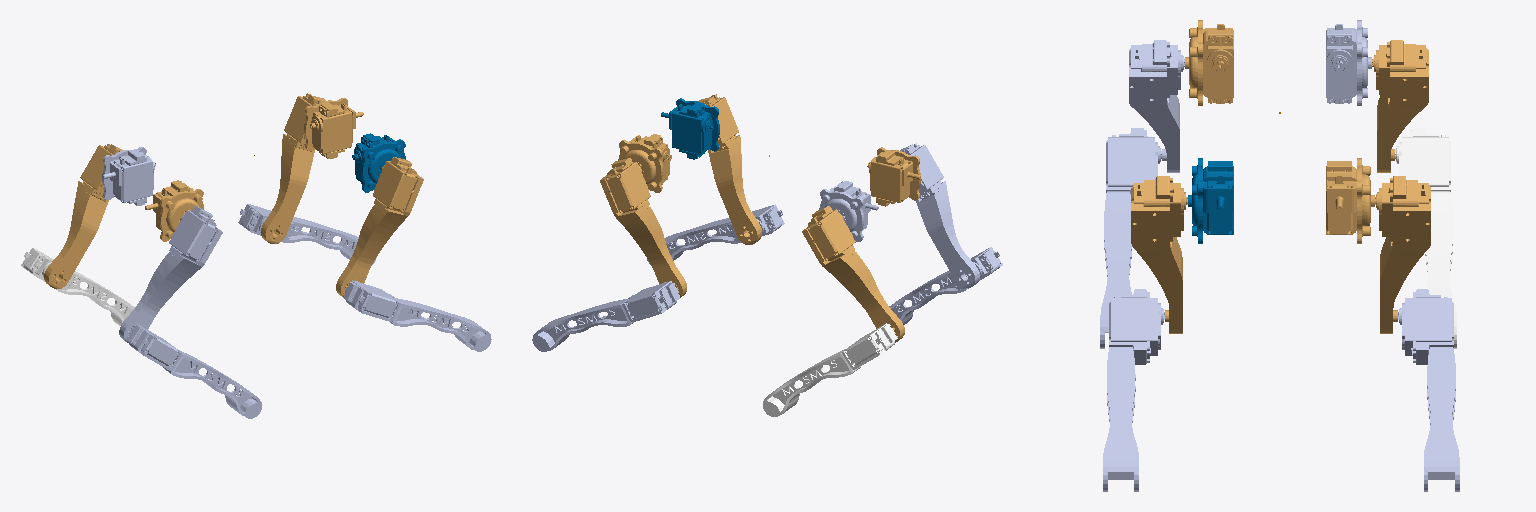
The robot description file, URDF, robot "robodog":
<?xml version="1.0" encoding="utf-8"?>
<!-- This URDF was automatically created by SolidWorks to URDF Exporter! Originally created by [author] ([email redacted]) 
     Commit Version: 1.6.0-4-g7f85cfe -->
<robot
  name="robodog">
 <!-- Base footprint link for ground reference -->
  <link name="base_footprint">
    <visual>
      <origin xyz="0 0 0" rpy="0 0 0"/>
      <geometry>
        <box size="0.001 0.001 0.001"/>
      </geometry>
    </visual>
  </link>

  <joint name="base_joint" type="fixed">
    <parent link="base_footprint"/>
    <child link="base_link"/>
    <origin xyz="0.0 0.0 0.010" rpy="0 0 0"/>
  </joint>

  <link
    name="base_link">
    <inertial>
      <origin
        xyz="0.0062956 -0.0050075 -0.030948"
        rpy="0 0 0" />
      <mass
        value="1.0028" />
      <inertia
        ixx="0.0012288"
        ixy="1.4032E-07"
        ixz="-9.376E-06"
        iyy="0.0019602"
        iyz="-1.3304E-06"
        izz="0.0025553" />
    </inertial>
    <visual>
      <origin
        xyz="0 0 0"
        rpy="0 0 0" />
      <geometry>
        <mesh
          filename="meshes/base_link.STL" />
      </geometry>
      <material
        name="">
        <color
          rgba="0.90196 0.7098 0.43922 1" />
      </material>
    </visual>
    <collision>
      <origin
        xyz="0 0 0"
        rpy="0 0 0" />
      <geometry>
        <mesh
          filename="meshes/base_link.STL" />
      </geometry>
    </collision>
  </link>
  <link
    name="front_right_joint">
    <inertial>
      <origin
        xyz="-0.0051161 0.0097183 -0.025267"
        rpy="0 0 0" />
      <mass
        value="0.05551" />
      <inertia
        ixx="1.7744E-05"
        ixy="1.1058E-08"
        ixz="2.21E-08"
        iyy="9.1883E-06"
        iyz="-2.3246E-07"
        izz="1.1629E-05" />
    </inertial>
    <visual>
      <origin
        xyz="0 0 0"
        rpy="0 0 0" />
      <geometry>
        <mesh
          filename="package://robodogv1/meshes/front_right_joint.STL" />
      </geometry>
      <material
        name="">
        <color
          rgba="0.039216 0.4902 0.7098 1" />
      </material>
    </visual>
    <collision>
      <origin
        xyz="0 0 0"
        rpy="0 0 0" />
      <geometry>
        <mesh
          filename="meshes/front_right_joint.STL" />
      </geometry>
    </collision>
  </link>
  <joint
    name="frontRightJoint"
    type="continuous">
    <origin
      xyz="0.095349 -0.044498 -0.016137"
      rpy="-1.5708 0 1.5708" />
    <parent
      link="base_link" />
    <child
      link="front_right_joint" />
    <axis
      xyz="0 0 -1" />
    <limit
      lower="-1.57"
      upper="1.57"
      effort="1.03"
      velocity="5.2" />
    <dynamics
      damping="0.05"
      friction="0.01" />
  </joint>
  <link
    name="front_right_hip">
    <inertial>
      <origin
        xyz="-0.013949 0.03834 -0.021448"
        rpy="0 0 0" />
      <mass
        value="0.083392" />
      <inertia
        ixx="5.3784E-05"
        ixy="2.2181E-05"
        ixz="4.5693E-06"
        iyy="2.3483E-05"
        iyz="-8.4641E-06"
        izz="6.1092E-05" />
    </inertial>
    <visual>
      <origin
        xyz="0 0 0"
        rpy="0 0 0" />
      <geometry>
        <mesh
          filename="meshes/front_right_hip.STL" />
      </geometry>
      <material
        name="">
        <color
          rgba="0.90196 0.7098 0.43922 1" />
      </material>
    </visual>
    <collision>
      <origin
        xyz="0 0 0"
        rpy="0 0 0" />
      <geometry>
        <mesh
          filename="meshes/front_right_hip.STL" />
      </geometry>
    </collision>
  </link>  
  <joint
    name="frontRightHip"
    type="revolute">
    <origin
      xyz="-0.022725 0.010225 -0.026"
      rpy="0 1.5708 0" />
    <parent
      link="front_right_joint" />
    <child
      link="front_right_hip" />
    <axis
      xyz="0 0 -1" />
    <limit
      lower="-1.57"
      upper="1.57"
      effort="100.0"
      velocity="5.2" />
    <dynamics
      damping="0.1"
      friction="0.1" />
  </joint>
  <link
    name="front_right_leg">
    <inertial>
      <origin
        xyz="0.036209 0.019904 -0.028129"
        rpy="0 0 0" />
      <mass
        value="0.06245" />
      <inertia
        ixx="1.6768E-05"
        ixy="-1.6025E-05"
        ixz="1.6028E-07"
        iyy="3.8508E-05"
        iyz="2.1508E-07"
        izz="4.4373E-05" />
    </inertial>
    <visual>
      <origin
        xyz="0 0 0"
        rpy="0 0 0" />      <geometry>
        <mesh
          filename="meshes/front_right_leg.STL" />
      </geometry>
      <material
        name="">
        <color
          rgba="0.79216 0.81961 0.93333 1" />
      </material>
    </visual>
    <collision>
      <origin
        xyz="0 0 0"
        rpy="0 0 0" />
      <geometry>
        <mesh
          filename="meshes/front_right_leg.STL" />
      </geometry>
    </collision>
  </link>
  <joint
    name="frontRightLeg"
    type="continuous">
    <origin
      xyz="-0.052167 0.11946 -0.017082"
      rpy="0 0 0" />
    <parent
      link="front_right_hip" />
    <child
      link="front_right_leg" />
    <axis
      xyz="0 0 -1" />
    <limit
      lower="-1.57"
      upper="1.57"
      effort="1.03"
      velocity="5.2" />
    <dynamics
      damping="0.05"
      friction="0.01" />
  </joint>
  <link
    name="front_left_joint">
    <inertial>
      <origin
        xyz="0.0059337 0.0097421 -0.025308"
        rpy="0 0 0" />
      <mass
        value="0.058404" />
      <inertia
        ixx="1.848E-05"
        ixy="-1.1284E-08"
        ixz="-2.0657E-08"
        iyy="9.618E-06"
        iyz="-2.3308E-07"
        izz="1.2065E-05" />
    </inertial>
    <visual>
      <origin
        xyz="0 0 0"
        rpy="0 0 0" />
      <geometry>
        <mesh
          filename="meshes/front_left_joint.STL" />
      </geometry>
      <material
        name="">
        <color
          rgba="0.90196 0.7098 0.43922 1" />
      </material>
    </visual>
    <collision>
      <origin
        xyz="0 0 0"
        rpy="0 0 0" />
      <geometry>
        <mesh
          filename="meshes/front_left_joint.STL" />
      </geometry>
    </collision>
  </link>
  <joint
    name="frontLeftJoint"
    type="continuous">
    <origin
      xyz="0.095349 0.044502 -0.016137"
      rpy="-1.5708 0 1.5708" />
    <parent
      link="base_link" />
    <child
      link="front_left_joint" />
    <axis
      xyz="0 0 -1" />
    <limit
      lower="-1.57"
      upper="1.57"
      effort="1.03"
      velocity="5.2" />
    <dynamics
      damping="0.05"
      friction="0.01" />
  </joint>
  <link
    name="front_left_hip">
    <inertial>
      <origin
        xyz="-0.013938 0.038316 0.021449"
        rpy="0 0 0" />
      <mass
        value="0.083465" />
      <inertia
        ixx="5.3818E-05"
        ixy="2.2193E-05"
        ixz="-4.5714E-06"
        iyy="2.3496E-05"
        iyz="8.4634E-06"
        izz="6.1133E-05" />
    </inertial>
    <visual>
      <origin
        xyz="0 0 0"
        rpy="0 0 0" />
      <geometry>
        <mesh
          filename="meshes/front_left_hip.STL" />
      </geometry>
      <material
        name="">
        <color
          rgba="0.90196 0.7098 0.43922 1" />
      </material>
    </visual>
    <collision>
      <origin
        xyz="0 0 0"
        rpy="0 0 0" />
      <geometry>
        <mesh
          filename="meshes/front_left_hip.STL" />
      </geometry>
    </collision>
  </link>
  <joint
    name="frontLeftHip"
    type="continuous">
    <origin
      xyz="0.024725 0.010225 -0.026"
      rpy="0 1.5708 0" />
    <parent
      link="front_left_joint" />
    <child
      link="front_left_hip" />
    <axis
      xyz="0 0 -1" />
    <limit
      lower="-1.57"
      upper="1.57"
      effort="1.03"
      velocity="5.2" />
    <dynamics
      damping="0.05"
      friction="0.01" />
  </joint>
  <link
    name="front_left_leg">
    <inertial>
      <origin
        xyz="0.036259 0.019928 0.028131"
        rpy="0 0 0" />
      <mass
        value="0.062469" />
      <inertia
        ixx="1.6762E-05"
        ixy="-1.602E-05"
        ixz="-1.6027E-07"
        iyy="3.8513E-05"
        iyz="-2.1508E-07"
        izz="4.4372E-05" />
    </inertial>
    <visual>
      <origin
        xyz="0 0 0"
        rpy="0 0 0" />
      <geometry>
        <mesh
          filename="meshes/front_left_leg.STL" />
      </geometry>
      <material
        name="">
        <color
          rgba="0.79216 0.81961 0.93333 1" />
      </material>
    </visual>
    <collision>
      <origin
        xyz="0 0 0"
        rpy="0 0 0" />
      <geometry>
        <mesh
          filename="meshes/front_left_leg.STL" />
      </geometry>
    </collision>
  </link>
  <joint
    name="frontLeftLeg"
    type="continuous">
    <origin
      xyz="-0.052167 0.11946 0.017082"
      rpy="0 0 0" />
    <parent
      link="front_left_hip" />
    <child
      link="front_left_leg" />
    <axis
      xyz="0 0 -1" />
    <limit
      lower="-1.57"
      upper="1.57"
      effort="1.03"
      velocity="5.2" />
    <dynamics
      damping="0.05"
      friction="0.01" />
  </joint>
  <link
    name="rear_right_joint">
    <inertial>
      <origin
        xyz="-0.025308 0.0097421 -0.0059337"
        rpy="0 0 0" />
      <mass
        value="0.058404" />
      <inertia
        ixx="1.2065E-05"
        ixy="-2.3308E-07"
        ixz="2.0657E-08"
        iyy="9.618E-06"
        iyz="1.1284E-08"
        izz="1.848E-05" />
    </inertial>
    <visual>
      <origin
        xyz="0 0 0"
        rpy="0 0 0" />
      <geometry>
        <mesh
          filename="meshes/rear_right_joint.STL" />
      </geometry>
      <material
        name="">
        <color
          rgba="0.90196 0.7098 0.43922 1" />
      </material>
    </visual>
    <collision>
      <origin
        xyz="0 0 0"
        rpy="0 0 0" />
      <geometry>
        <mesh
          filename="meshes/rear_right_joint.STL" />
      </geometry>
    </collision>
  </link>
  <joint
    name="rearRightJoint"
    type="continuous">
    <origin
      xyz="-0.096651 -0.044498 -0.016137"
      rpy="-1.5708 0 0" />
    <parent
      link="base_link" />
    <child
      link="rear_right_joint" />
    <axis
      xyz="1 0 0" />
    <limit
      lower="-1.57"
      upper="1.57"
      effort="1.03"
      velocity="5.2" />
    <dynamics
      damping="0.05"
      friction="0.01" />
  </joint>
  <link
    name="rear_right_hip">
    <inertial>
      <origin
        xyz="-0.020156 0.035472 -0.021448"
        rpy="0 0 0" />
      <mass
        value="0.083392" />
      <inertia
        ixx="4.5634E-05"
        ixy="2.5933E-05"
        ixz="5.9187E-06"
        iyy="3.1634E-05"
        iyz="-7.5821E-06"
        izz="6.1092E-05" />
    </inertial>
    <visual>
      <origin
        xyz="0 0 0"
        rpy="0 0 0" />
      <geometry>
        <mesh
          filename="meshes/rear_right_hip.STL" />
      </geometry>
      <material
        name="">
        <color
          rgba="0.79216 0.81961 0.93333 1" />
      </material>
    </visual>
    <collision>
      <origin
        xyz="0 0 0"
        rpy="0 0 0" />
      <geometry>
        <mesh
          filename="meshes/rear_right_hip.STL" />
      </geometry>
    </collision>
  </link>
  <joint
    name="rearRightHip"
    type="continuous">
    <origin
      xyz="-0.026 0.010225 -0.024725"
      rpy="0 0 0" />
    <parent
      link="rear_right_joint" />
    <child
      link="rear_right_hip" />
    <axis
      xyz="0 0 -1" />
    <limit
      lower="-1.57"
      upper="1.57"
      effort="1.03"
      velocity="5.2" />
    <dynamics
      damping="0.05"
      friction="0.01" />
  </joint>
  <link
    name="rear_right_leg">
    <inertial>
      <origin
        xyz="0.032013 0.026123 -0.028129"
        rpy="0 0 0" />
      <mass
        value="0.06245" />
      <inertia
        ixx="2.3179E-05"
        ixy="-1.8843E-05"
        ixz="1.1874E-07"
        iyy="3.2097E-05"
        iyz="2.4051E-07"
        izz="4.4373E-05" />
    </inertial>
    <visual>
      <origin
        xyz="0 0 0"
        rpy="0 0 0" />
      <geometry>
        <mesh
          filename="meshes/rear_right_leg.STL" />
      </geometry>
      <material
        name="">
        <color
          rgba="0.79216 0.81961 0.93333 1" />
      </material>
    </visual>
    <collision>
      <origin
        xyz="0 0 0"
        rpy="0 0 0" />
      <geometry>
        <mesh
          filename="meshes/rear_right_leg.STL" />
      </geometry>
    </collision>
  </link>
  <joint
    name="rearRightLeg"
    type="continuous">
    <origin
      xyz="-0.071386 0.10907 -0.017082"
      rpy="0 0 0" />
    <parent
      link="rear_right_hip" />
    <child
      link="rear_right_leg" />
    <axis
      xyz="0 0 -1" />
    <limit
      lower="-1.57"
      upper="1.57"
      effort="1.03"
      velocity="5.2" />
    <dynamics
      damping="0.05"
      friction="0.01" />
  </joint>
  <link
    name="rear_left_joint">
    <inertial>
      <origin
        xyz="-0.025267 0.0097183 0.0051161"
        rpy="0 0 0" />
      <mass
        value="0.05551" />
      <inertia
        ixx="1.1629E-05"
        ixy="-2.3246E-07"
        ixz="-2.21E-08"
        iyy="9.1883E-06"
        iyz="-1.1058E-08"
        izz="1.7744E-05" />
    </inertial>
    <visual>
      <origin
        xyz="0 0 0"
        rpy="0 0 0" />
      <geometry>
        <mesh
          filename="meshes/rear_left_joint.STL" />
      </geometry>
      <material
        name="">
        <color
          rgba="0.79216 0.81961 0.93333 1" />
      </material>
    </visual>
    <collision>
      <origin
        xyz="0 0 0"
        rpy="0 0 0" />
      <geometry>
        <mesh
          filename="meshes/rear_left_joint.STL" />
      </geometry>
    </collision>
  </link>
  <joint
    name="rearLeftJoint"
    type="continuous">
    <origin
      xyz="-0.096651 0.044502 -0.016137"
      rpy="-1.5708 0 0" />
    <parent
      link="base_link" />
    <child
      link="rear_left_joint" />
    <axis
      xyz="1 0 0" />
    <limit
      lower="-1.57"
      upper="1.57"
      effort="1.03"
      velocity="5.2" />
    <dynamics
      damping="0.05"
      friction="0.01" />
  </joint>
  <link
    name="rear_left_hip">
    <inertial>
      <origin
        xyz="-0.020142 0.03545 0.021449"
        rpy="0 0 0" />
      <mass
        value="0.083465" />
      <inertia
        ixx="4.5663E-05"
        ixy="2.5948E-05"
        ixz="-5.9207E-06"
        iyy="3.1651E-05"
        iyz="7.5811E-06"
        izz="6.1133E-05" />
    </inertial>
    <visual>
      <origin
        xyz="0 0 0"
        rpy="0 0 0" />
      <geometry>
        <mesh
          filename="meshes/rear_left_hip.STL" />
      </geometry>
      <material
        name="">
        <color
          rgba="0.90196 0.7098 0.43922 1" />
      </material>
    </visual>
    <collision>
      <origin
        xyz="0 0 0"
        rpy="0 0 0" />
      <geometry>
        <mesh
          filename="meshes/rear_left_hip.STL" />
      </geometry>
    </collision>
  </link>
  <joint
    name="rearLeftHip"
    type="continuous">
    <origin
      xyz="-0.026 0.010225 0.022725"
      rpy="0 0 0" />
    <parent
      link="rear_left_joint" />
    <child
      link="rear_left_hip" />
    <axis
      xyz="0 0 -1" />
    <limit
      lower="-1.57"
      upper="1.57"
      effort="1.03"
      velocity="5.2" />
    <dynamics
      damping="0.05"
      friction="0.01" />
  </joint>
  <link
    name="rear_left_leg">
    <inertial>
      <origin
        xyz="0.032058 0.026156 0.028131"
        rpy="0 0 0" />
      <mass
        value="0.062469" />
      <inertia
        ixx="2.3171E-05"
        ixy="-1.884E-05"
        ixz="-1.1874E-07"
        iyy="3.2104E-05"
        iyz="-2.4051E-07"
        izz="4.4372E-05" />
    </inertial>
    <visual>
      <origin
        xyz="0 0 0"
        rpy="0 0 0" />
      <geometry>
        <mesh
          filename="meshes/rear_left_leg.STL" />
      </geometry>
      <material
        name="">
        <color
          rgba="1 1 1 1" />
      </material>
    </visual>
    <collision>
      <origin
        xyz="0 0 0"
        rpy="0 0 0" />
      <geometry>
        <mesh
          filename="meshes/rear_left_leg.STL" />
      </geometry>
    </collision>
  </link>
  <joint
    name="rearLeftLeg"
    type="continuous">
    <origin
      xyz="-0.071386 0.10907 0.017082"
      rpy="0 0 0" />
    <parent
      link="rear_left_hip" />
    <child
      link="rear_left_leg" />
    <axis
      xyz="0 0 -1" />
    <limit
      lower="-1.57"
      upper="1.57"
      effort="1.03"
      velocity="5.2" />
    <dynamics
      damping="0.05"
      friction="0.01" />
  </joint>    
</robot>

--- Facts derived from the render (not from the file) ---
Views: 3 orthographic renders of the robot side by side, from view 1: azimuth 30°, elevation 25°; view 2: azimuth 150°, elevation 25°; view 3: azimuth 270°, elevation 25°.
Model robodog with 14 links and 13 joints (1 revolute, 11 continuous, 1 fixed), rooted at base_footprint, posed every joint at zero.
Visible links, largest first — view 1: rear_right_hip, front_right_hip, rear_left_hip, front_left_hip, front_right_leg, rear_right_leg, front_left_joint, rear_left_joint, front_left_leg, rear_left_leg, front_right_joint, rear_right_joint; view 2: rear_left_hip, front_left_hip, rear_right_hip, front_right_hip, front_left_leg, rear_left_leg, rear_right_joint, front_right_joint, front_right_leg, rear_right_leg, front_left_joint, rear_left_joint; view 3: front_right_leg, front_left_leg, rear_right_leg, front_right_hip, front_left_hip, rear_left_leg, rear_left_hip, rear_right_hip, rear_right_joint, front_left_joint, rear_left_joint, front_right_joint.
Boxes of the visible links, x1,y1,x2,y2 form: rear_right_hip: (119,206,222,342); front_right_hip: (336,157,423,296); rear_left_hip: (44,144,122,288); front_left_hip: (261,93,325,243); front_right_leg: (343,280,491,351); rear_right_leg: (127,324,261,418); front_left_joint: (304,98,363,158); rear_left_joint: (102,147,155,205); front_left_leg: (238,204,376,264); rear_left_leg: (21,248,134,325); front_right_joint: (352,133,405,192); rear_right_joint: (145,180,203,241); rear_left_hip: (802,206,904,342); front_left_hip: (600,158,686,297); rear_right_hip: (900,143,979,287); front_right_hip: (698,94,761,244); front_left_leg: (532,281,679,351); rear_left_leg: (763,323,897,416); rear_right_joint: (867,147,920,206); front_right_joint: (661,98,719,159); front_right_leg: (647,204,784,264); rear_right_leg: (889,247,1002,324); front_left_joint: (618,134,671,192); rear_left_joint: (819,181,878,241); front_right_leg: (1103,289,1164,491); front_left_leg: (1398,289,1459,491); rear_right_leg: (1100,128,1161,348); front_right_hip: (1131,176,1187,333); front_left_hip: (1375,176,1430,333); rear_left_leg: (1395,128,1456,348); rear_left_hip: (1372,40,1428,172); rear_right_hip: (1129,40,1184,172); rear_right_joint: (1185,20,1233,105); front_left_joint: (1326,158,1374,243); rear_left_joint: (1326,20,1371,105); front_right_joint: (1188,158,1233,243).
Size in the robot's own frame: 0.4238 by 0.2688 by 0.243 metres.
Meshes: 13 distinct files referenced, 12 mesh visuals loaded (12 binary STL); not drawn: 1 (reference not matched to a file when rendering).